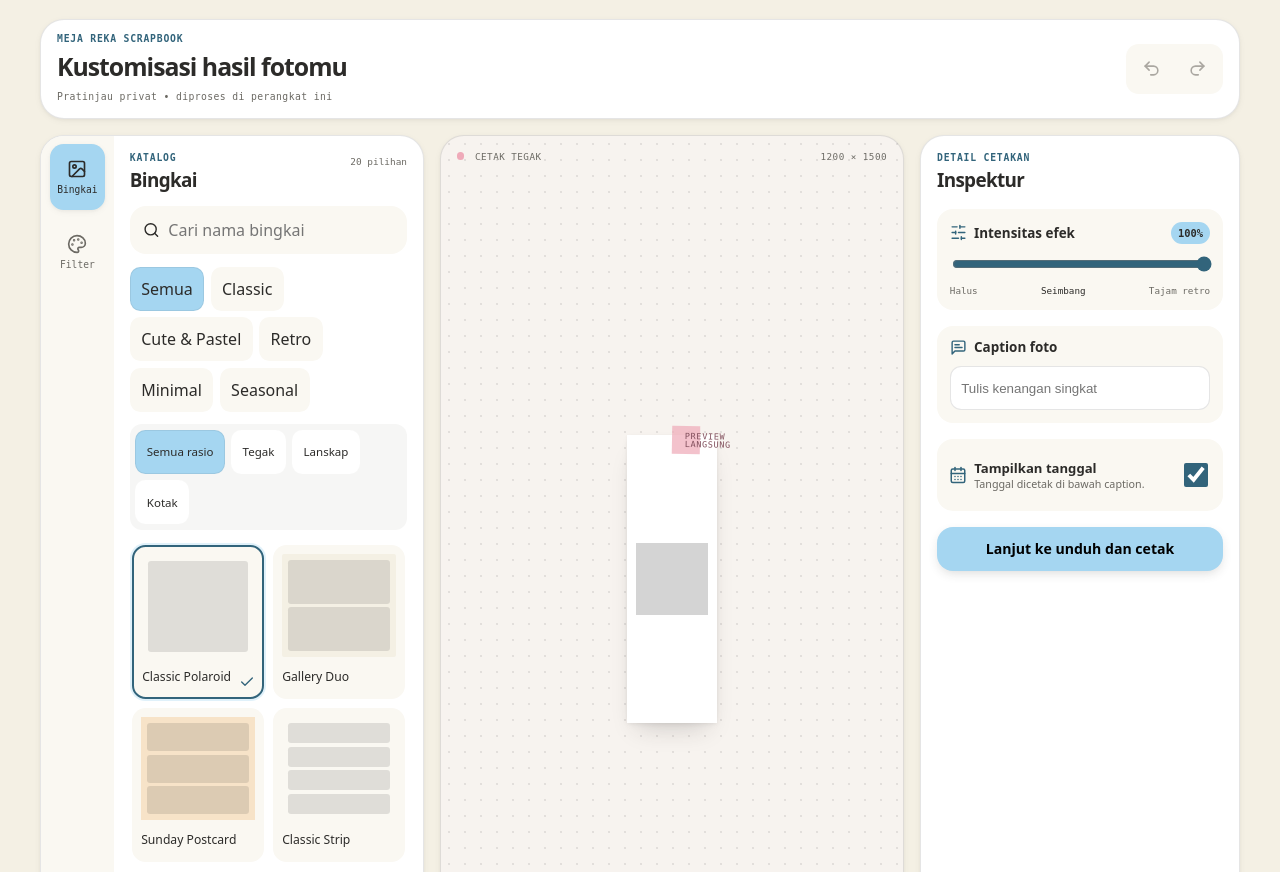
Test: Editor › clears a successful preview before a replacement composition fails
In the field labelled "Caption foto": (1080, 388) [950,366,1210,410], type "coba lagi"
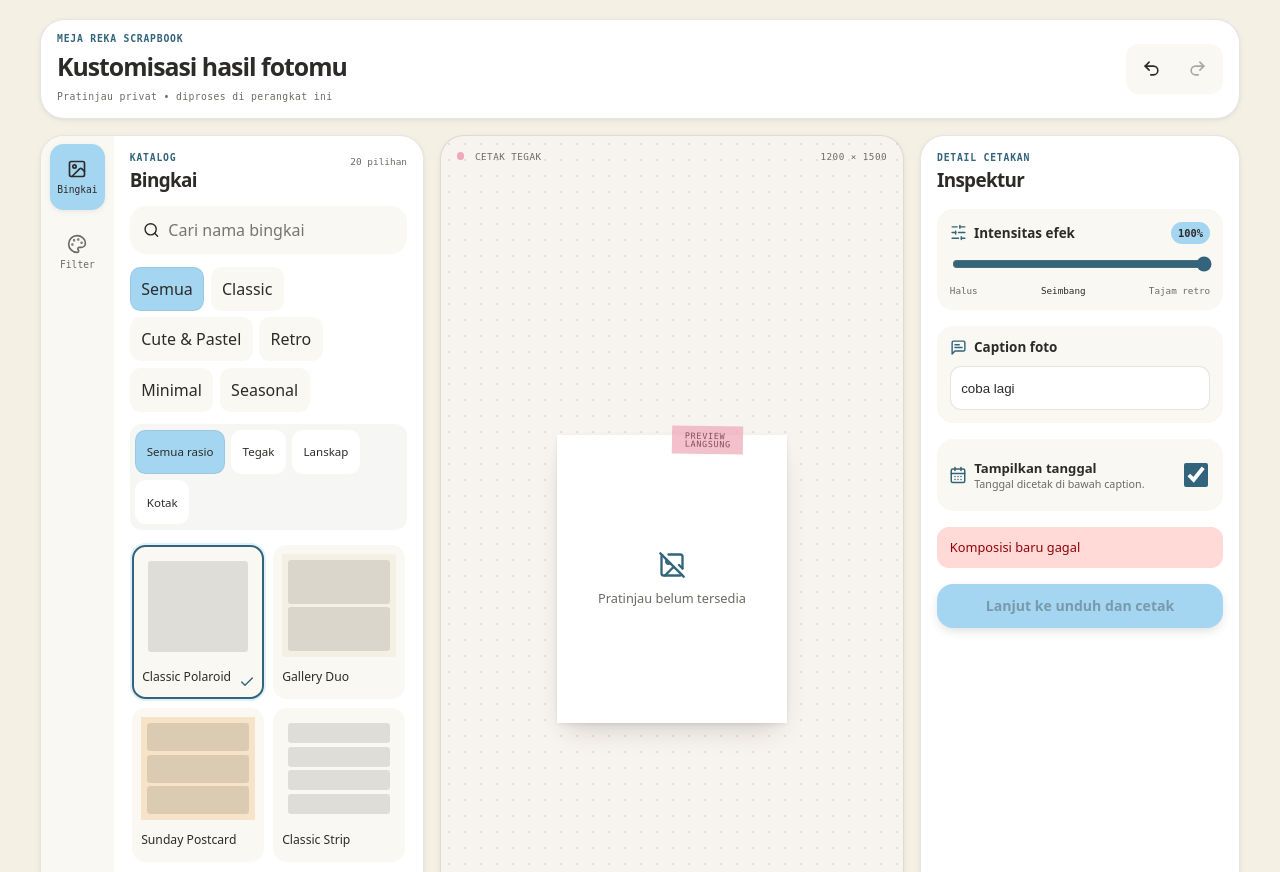
Now the message reads "Komposisi baru gagal", box [950,538,1080,556]
Now the button "Lanjut ke unduh dan cetak" is disabled, box [937,584,1223,628]
